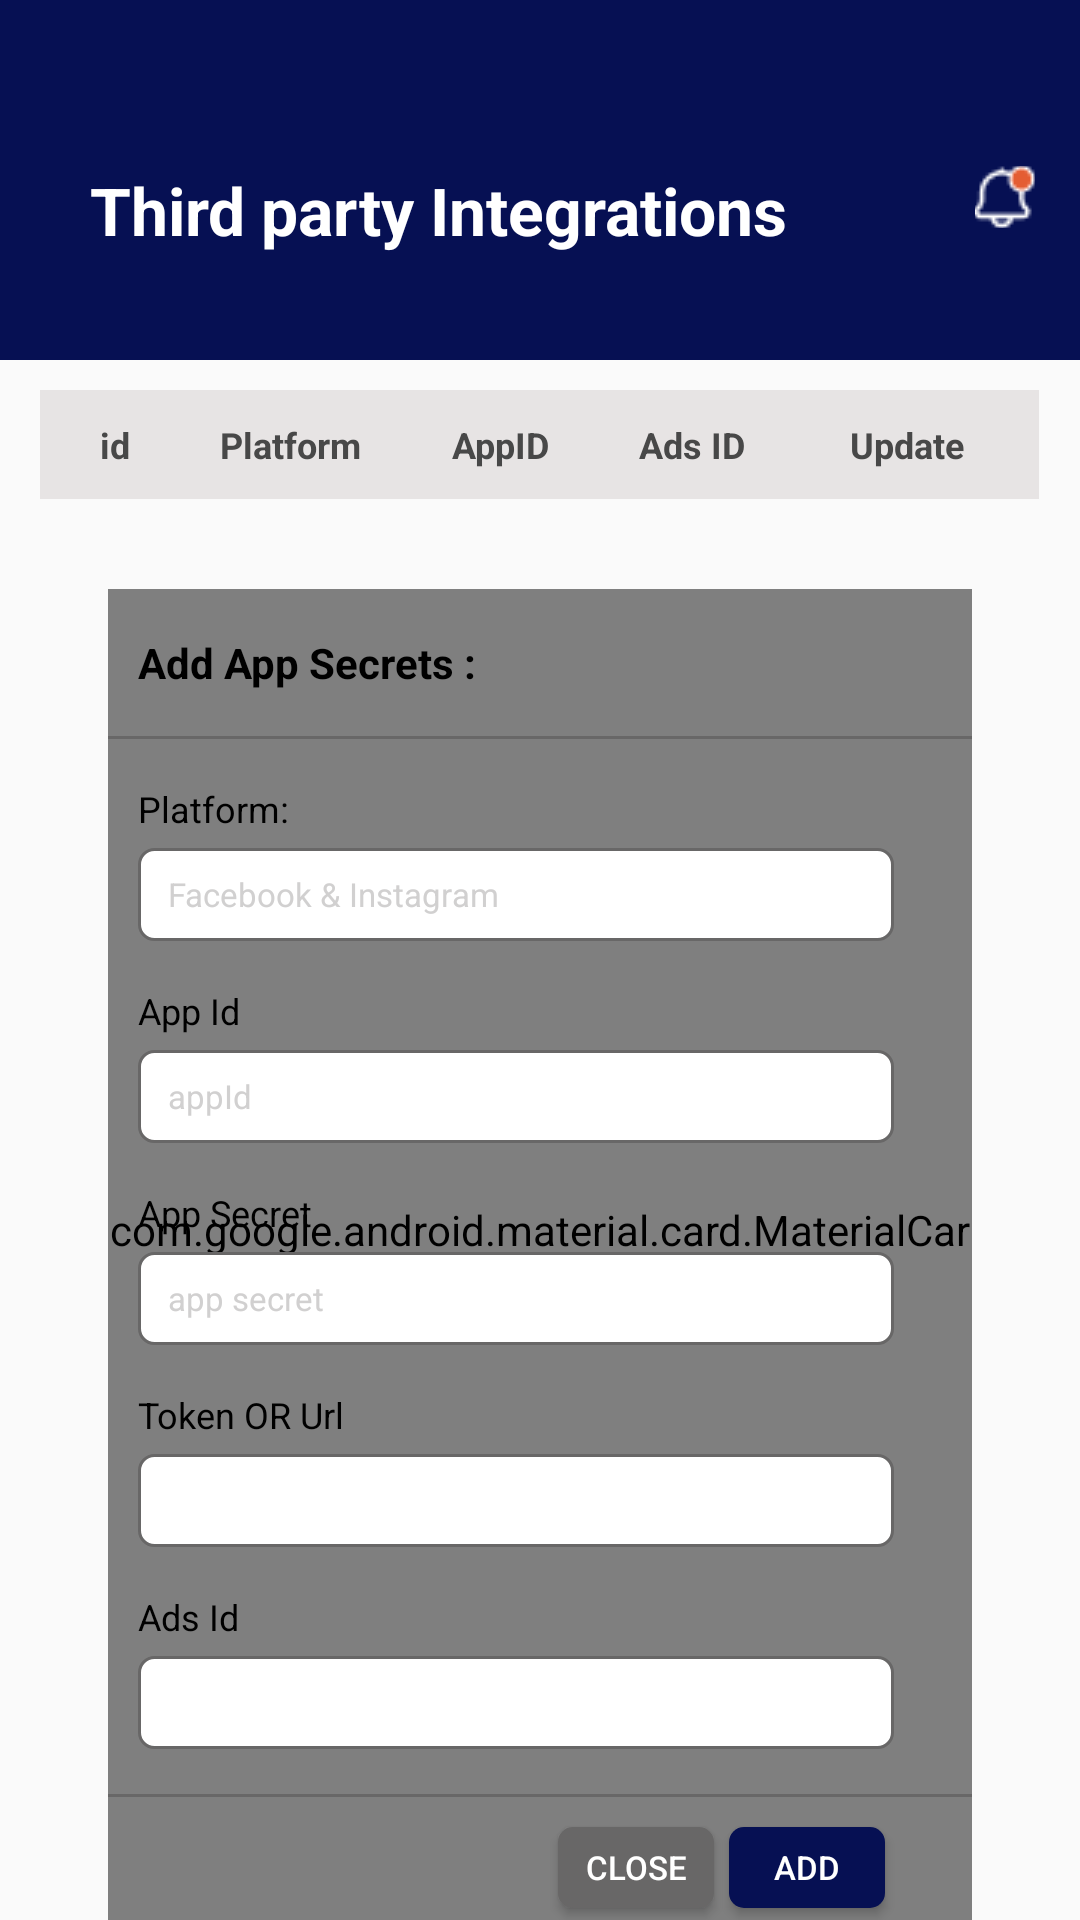

Screen size 1080 x 1920. Icon name, then its box in pixels as (x1, y1, x2, y2):
notifications: (975, 166, 1035, 228)
